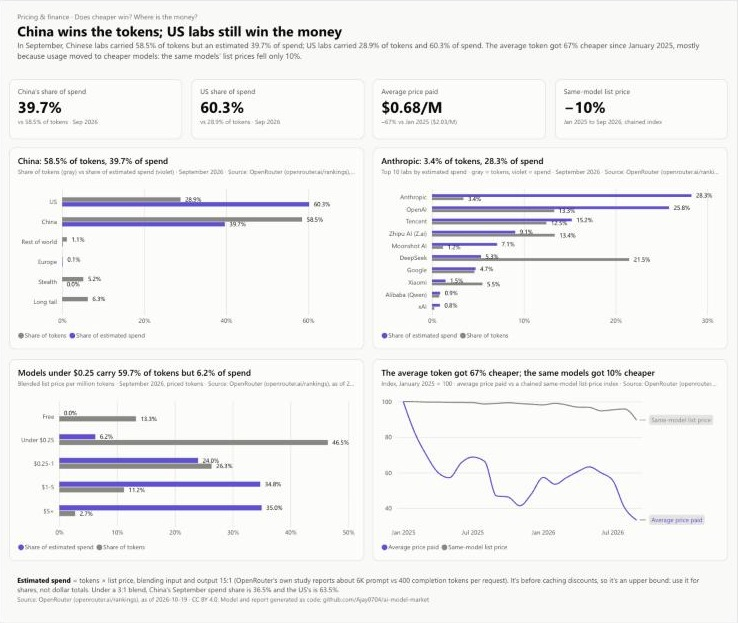

Layout of this report page (visuals, bound fields, positions):
{"tool":"tableau","page":{"name":"2 · Pricing & finance","canvas":[1400,950],"ordinal":1},"visuals":[{"type":"text","box":[0,0,1400,123.5]},{"type":"text","box":[0,123.5,350,104.5]},{"type":"text","box":[350,123.5,350,104.5]},{"type":"text","box":[700,123.5,350,104.5]},{"type":"text","box":[1050,123.5,350,104.5]},{"type":"worksheet","title":"Groups: tokens vs spend","mark":"Circle","rows":["Group"],"cols":["Share"],"box":[0,228,700,323]},{"type":"worksheet","title":"Labs: tokens vs spend","mark":"Circle","rows":["Lab"],"cols":["Share"],"box":[700,228,700,323]},{"type":"worksheet","title":"Price tiers","mark":"Bar","rows":["Tier","Measure"],"cols":["Share"],"box":[0,551,700,323]},{"type":"worksheet","title":"Price index","mark":"Line","rows":["Index (Jan 2025 = 100)"],"cols":["Month"],"box":[700,551,700,323]},{"type":"text","box":[0,874,1400,76]}]}

Visuals, with their boxes on the page's 1400x950 design canvas (x1, y1, x2, y2). These are canvas units, not pixel positions in the 738x623 screenshot, which may show the page scaled, cropped or inside an application window:
text: <region>0, 0, 1400, 124</region>
text: <region>0, 124, 350, 228</region>
text: <region>350, 124, 700, 228</region>
text: <region>700, 124, 1050, 228</region>
text: <region>1050, 124, 1400, 228</region>
"Groups: tokens vs spend" worksheet (Circle marks): <region>0, 228, 700, 551</region>
"Labs: tokens vs spend" worksheet (Circle marks): <region>700, 228, 1400, 551</region>
"Price tiers" worksheet (Bar marks): <region>0, 551, 700, 874</region>
"Price index" worksheet (Line marks): <region>700, 551, 1400, 874</region>
text: <region>0, 874, 1400, 950</region>
